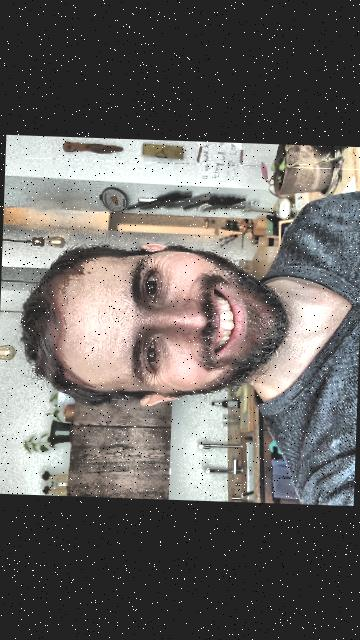happy: (12, 231, 308, 423)
